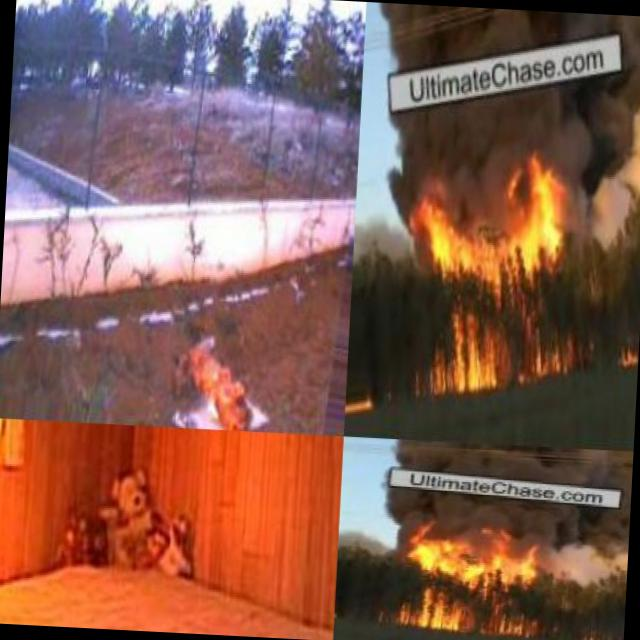fire: (408, 144, 568, 284), (404, 525, 538, 639), (406, 316, 508, 397), (174, 336, 258, 426), (519, 326, 579, 387), (611, 330, 640, 380), (345, 388, 378, 419), (575, 635, 620, 640)
smoke: (553, 91, 640, 245), (540, 509, 630, 584)
